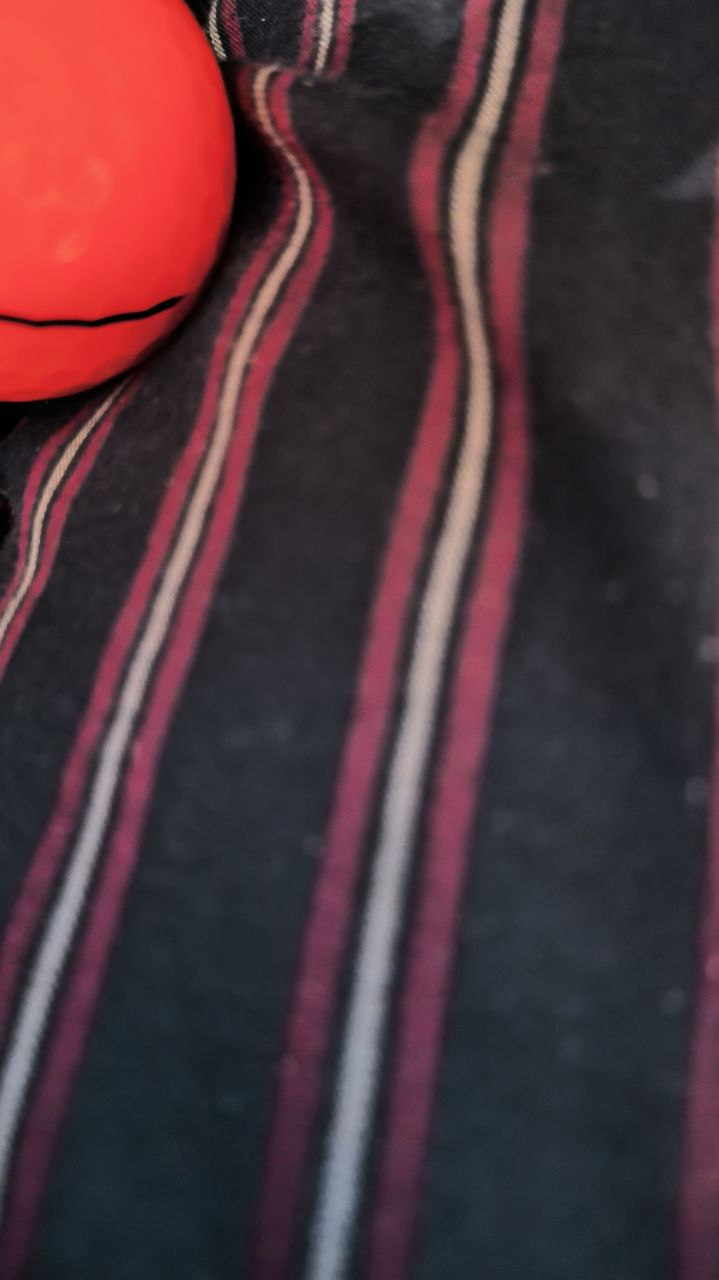orange_ball: (0, 0, 235, 402)
